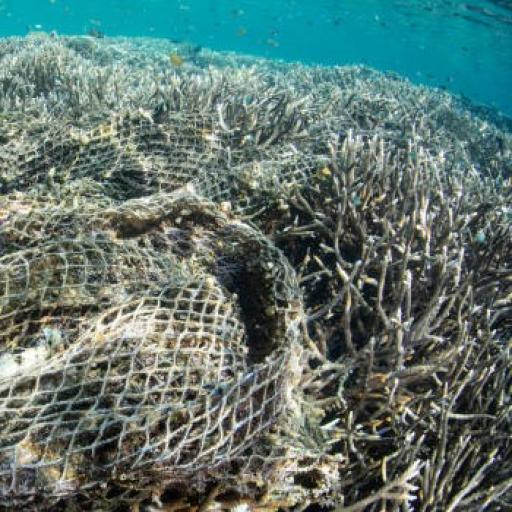net: (0, 96, 352, 497)
